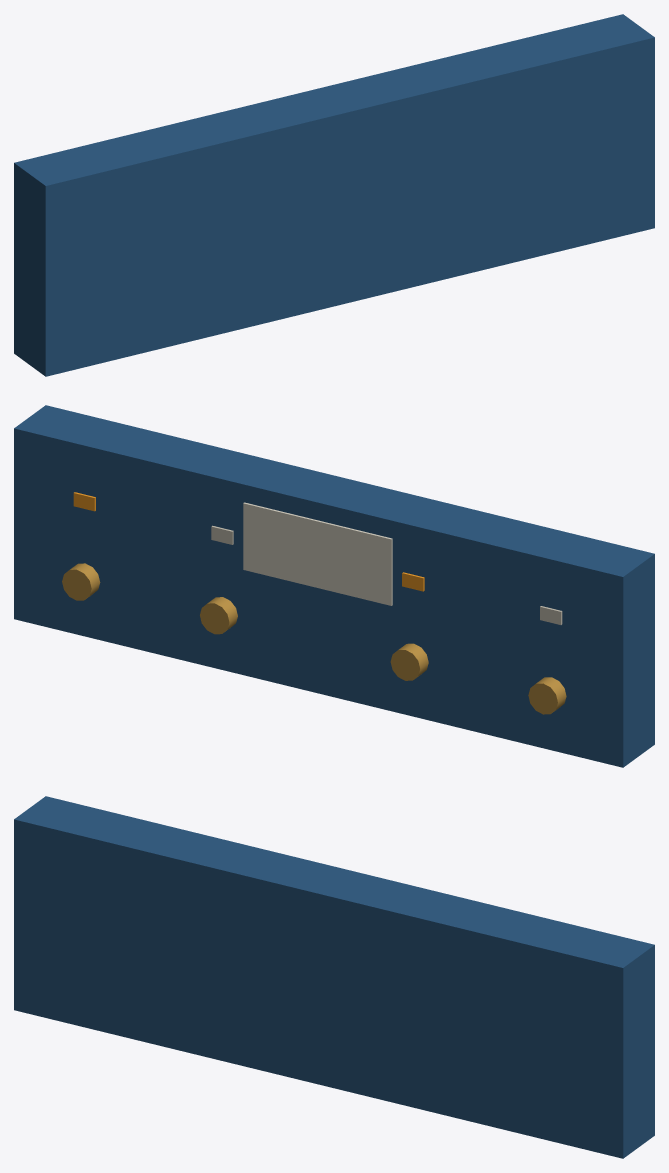
The model's file is drone4_charger.obj.
3 views of the same model, one above another, from view 1: azimuth 30°, elevation 25°; view 2: azimuth 150°, elevation 25°; view 3: azimuth 330°, elevation 25° (orthographic).
Parts seen in each view (by area): view 1: drone4_charger; view 2: drone4_charger; view 3: drone4_charger.
Boxes of the visible parts, x1=… form: drone4_charger: x1=14, y1=14, x2=654, y2=376; drone4_charger: x1=14, y1=405, x2=654, y2=767; drone4_charger: x1=14, y1=796, x2=654, y2=1158.
Size of the model in its own units: 2.87 by 0.86 by 0.33.
